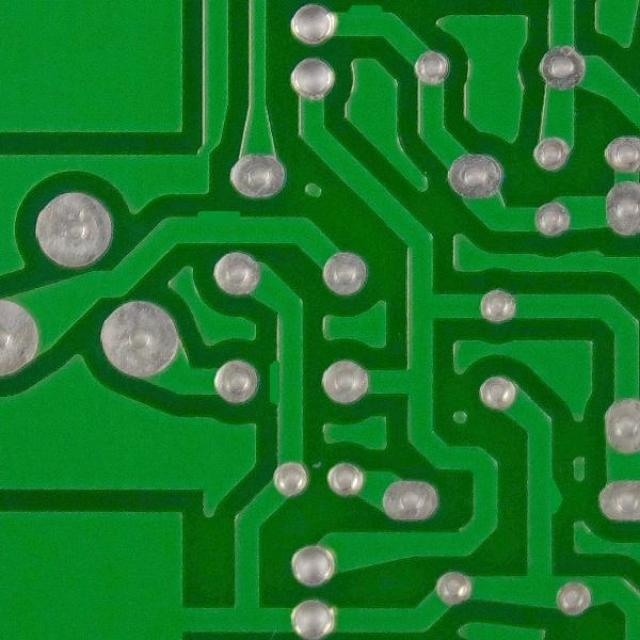spur: (260, 358, 301, 407), (192, 202, 252, 232), (532, 474, 566, 522), (342, 2, 393, 31)
